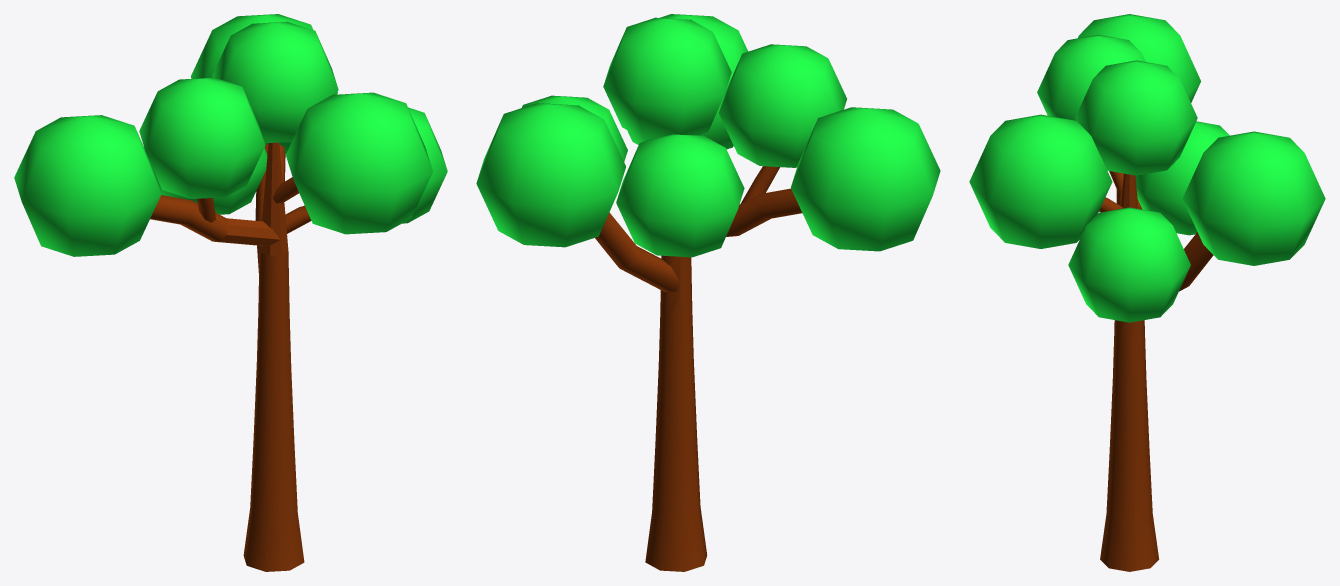
The model's file is nat_002.FBX.
The picture shows the model from 3 angles, left to right: view 1: azimuth 30°, elevation 25°; view 2: azimuth 150°, elevation 25°; view 3: azimuth 270°, elevation 25°; orthographic projection. The views are drawn at different scales.
Visible parts, largest first — view 1: Cylinder001, Sphere005, Sphere001, Sphere002, Sphere007, Sphere006, Sphere004, Sphere003; view 2: Cylinder001, Sphere001, Sphere006, Sphere003, Sphere007, Sphere002, Sphere005, Sphere004; view 3: Sphere006, Sphere005, Cylinder001, Sphere004, Sphere007, Sphere002, Sphere003, Sphere001.
Part boxes in pixels (left/top/right/bottom): Cylinder001: left=150, top=142, right=311, bottom=571; Sphere005: left=286, top=92, right=432, bottom=234; Sphere001: left=14, top=115, right=161, bottom=256; Sphere002: left=139, top=77, right=265, bottom=198; Sphere007: left=212, top=21, right=338, bottom=143; Sphere006: left=190, top=14, right=337, bottom=153; Sphere004: left=402, top=107, right=447, bottom=223; Sphere003: left=144, top=147, right=267, bottom=214; Cylinder001: left=595, top=166, right=802, bottom=571; Sphere001: left=791, top=107, right=940, bottom=251; Sphere006: left=476, top=103, right=625, bottom=247; Sphere003: left=616, top=134, right=744, bottom=257; Sphere007: left=603, top=17, right=731, bottom=139; Sphere002: left=719, top=44, right=846, bottom=167; Sphere005: left=627, top=14, right=748, bottom=149; Sphere004: left=522, top=95, right=627, bottom=161; Sphere006: left=1182, top=131, right=1325, bottom=265; Sphere005: left=969, top=114, right=1112, bottom=248; Cylinder001: left=1099, top=171, right=1213, bottom=571; Sphere004: left=1068, top=207, right=1190, bottom=322; Sphere007: left=1075, top=60, right=1197, bottom=175; Sphere002: left=1037, top=34, right=1145, bottom=120; Sphere003: left=1135, top=121, right=1229, bottom=235; Sphere001: left=1078, top=14, right=1200, bottom=102.
Size of the model in its own units: 175 by 212 by 137.
